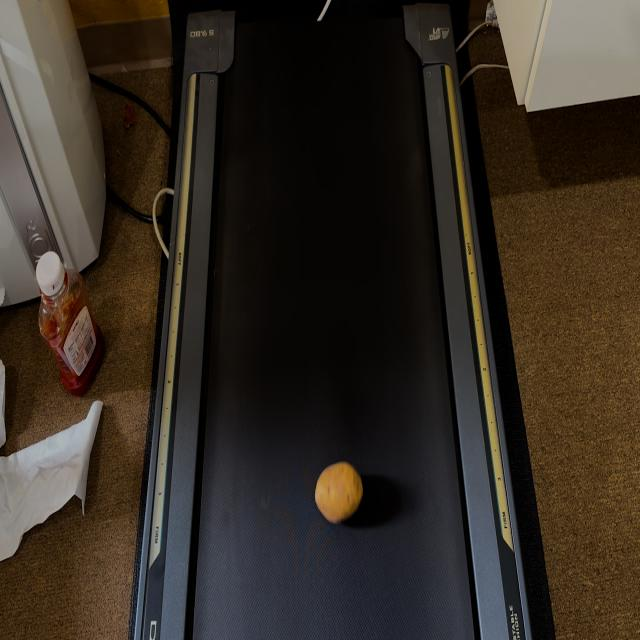Trash: (314, 462, 364, 523)
